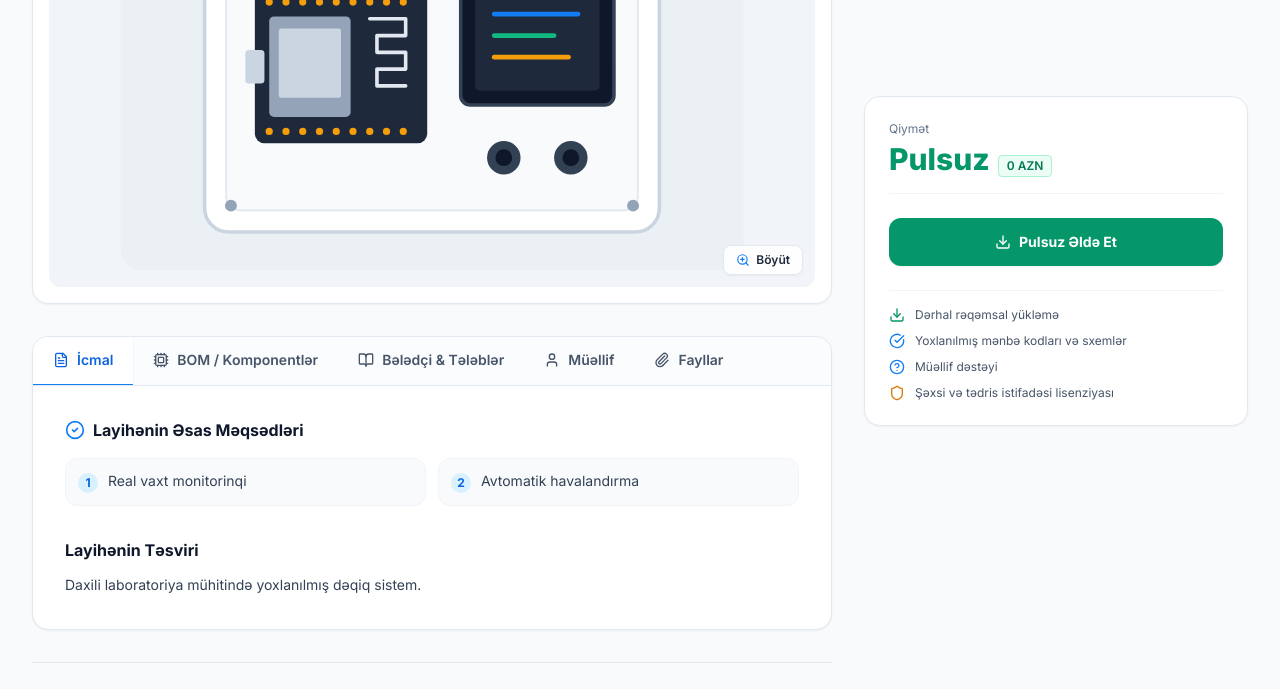
Scenario: ProjectDetailsPage Component › navigates across all technical tabs and displays content
(page scrolled)
Check: the heading "Layihənin Əsas Məqsədləri" is shown, box [65,420,304,440]
Check: the text "Real vaxt monitorinqi" is shown, box [108,471,247,491]
Note: Tab 2: BOM
Click the button "BOM / Komponentlər". click: (236, 361)
box: [133,336,338,386]
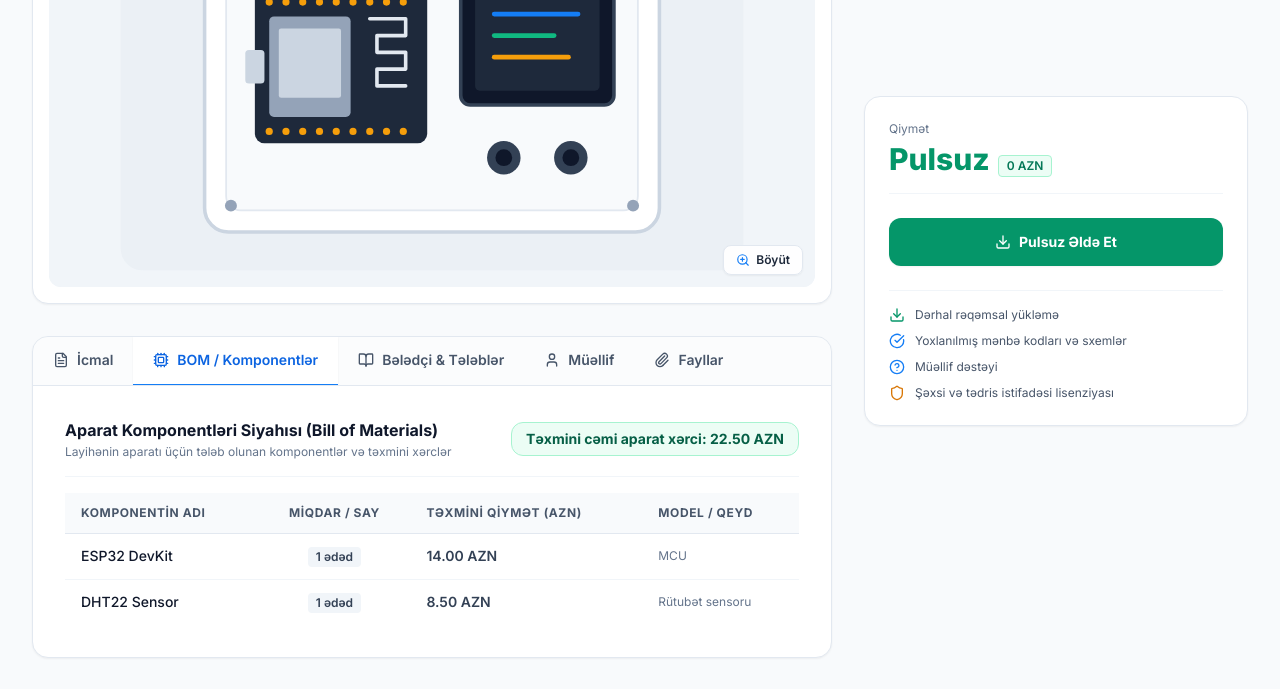
Check: the text "ESP32 DevKit" is shown, box [65,533,258,579]
Check: the text "DHT22 Sensor" is shown, box [65,579,258,625]
Note: Tab 3: Guide
Click the button "Bələdçi & Tələblər". click: (431, 361)
box: [338,336,524,386]
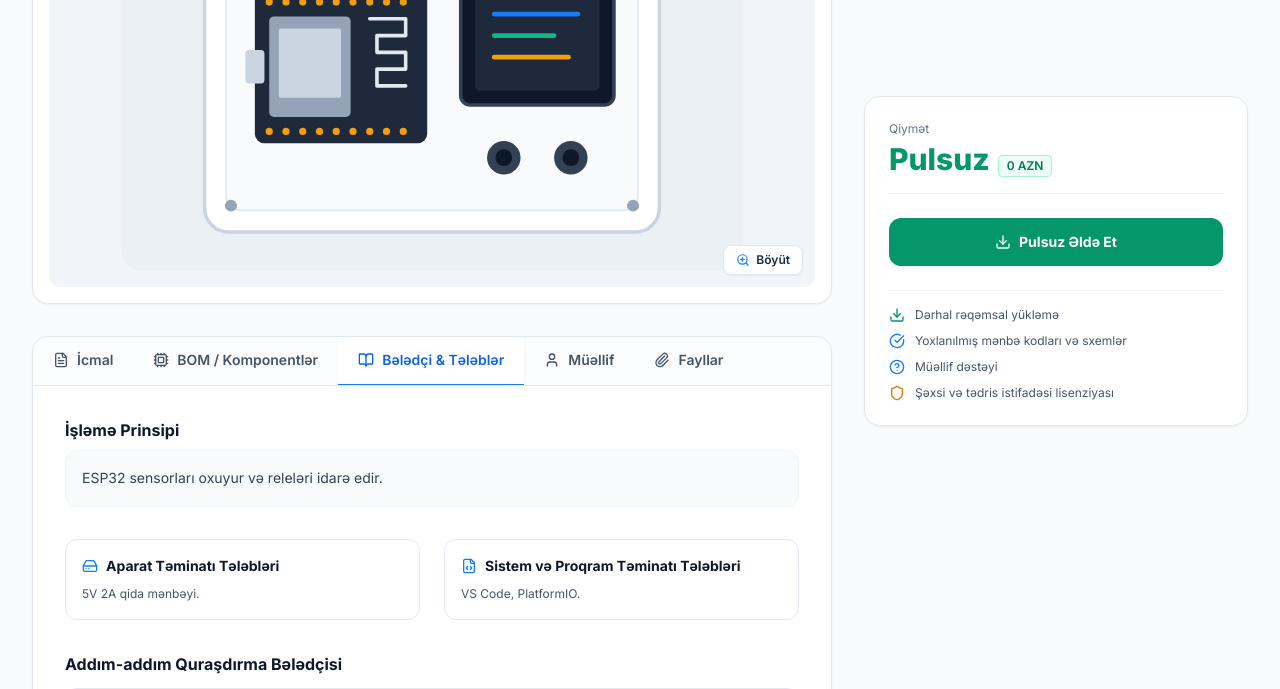
Check: the text "ESP32 sensorları oxuyur və releləri idarə edir." is shown, box [65,450,799,507]
Note: Tab 4: Author
Click the button "Müəllif". click: (579, 361)
box: [524,336,634,386]
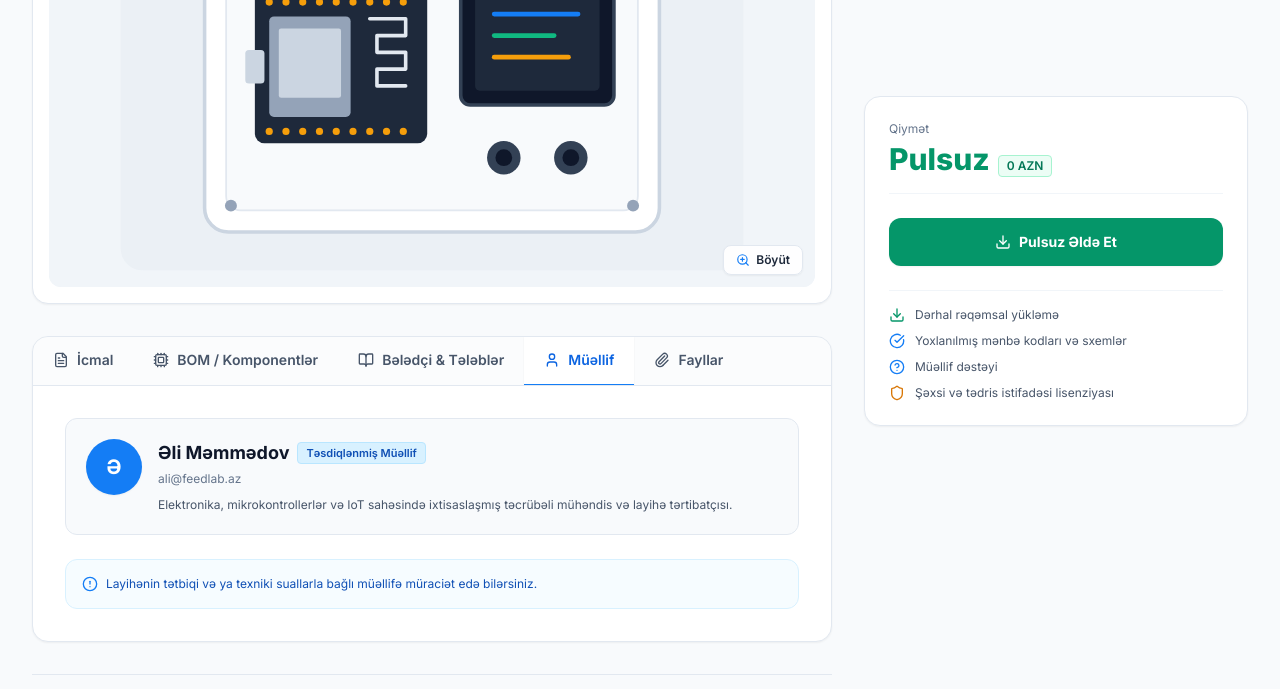
Check: the text "ali@feedlab.az" is shown, box [158,471,241,486]
Check: the text "Təsdiqlənmiş Müəllif" is shown, box [298,442,426,464]
Note: Tab 5: Files
Click the button "Fayllar". click: (689, 361)
box: [634,336,743,386]
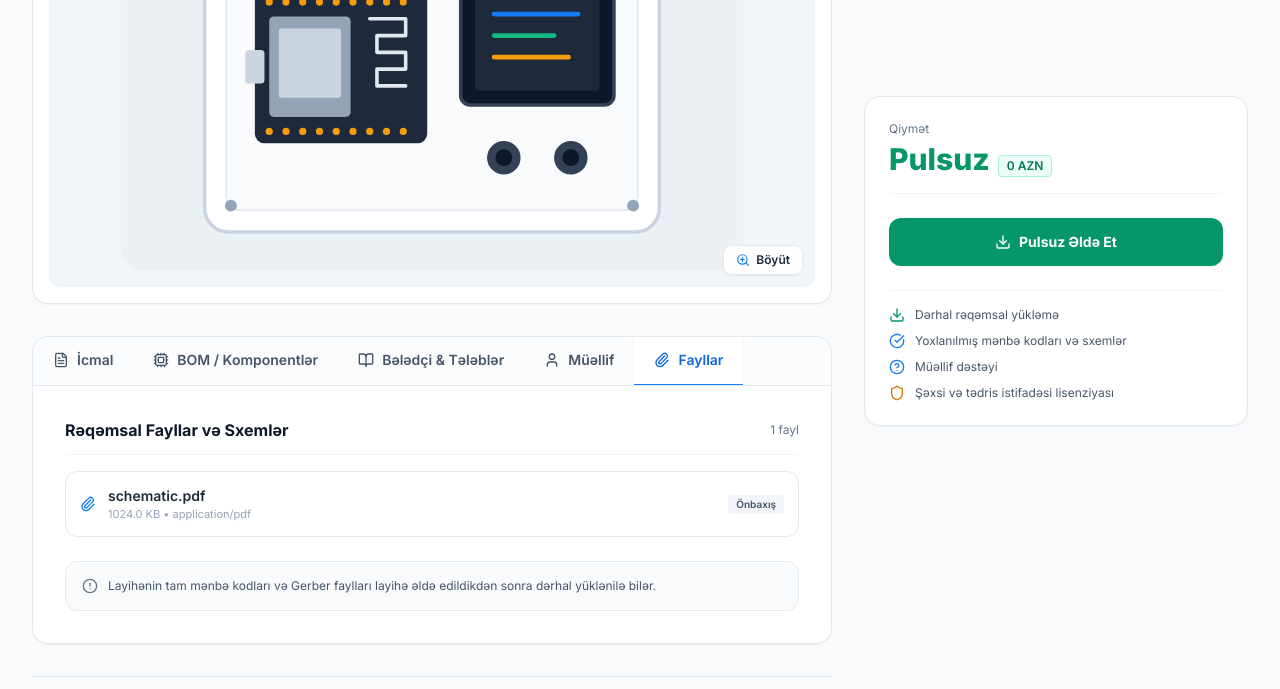
Check: the text "schematic.pdf" is shown, box [108,487,206,504]
Check: the text "1024.0 KB • application/pdf" is shown, box [108,506,251,522]
